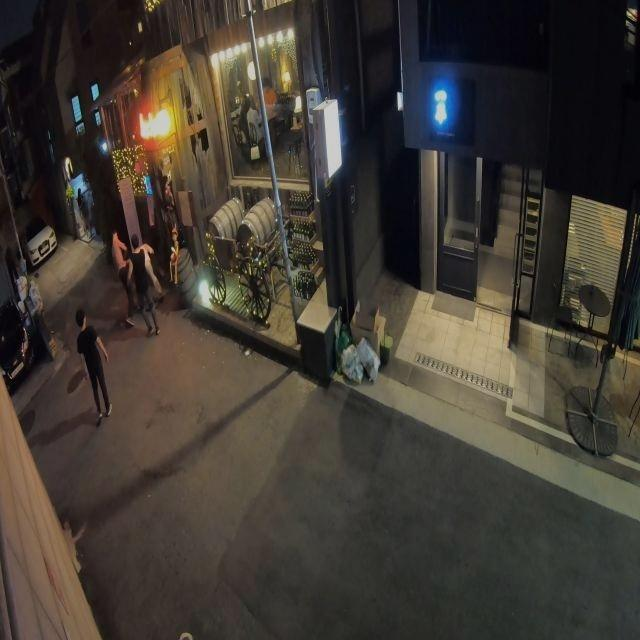fight: (111, 231, 162, 336)
non-fight: (77, 308, 113, 425)
